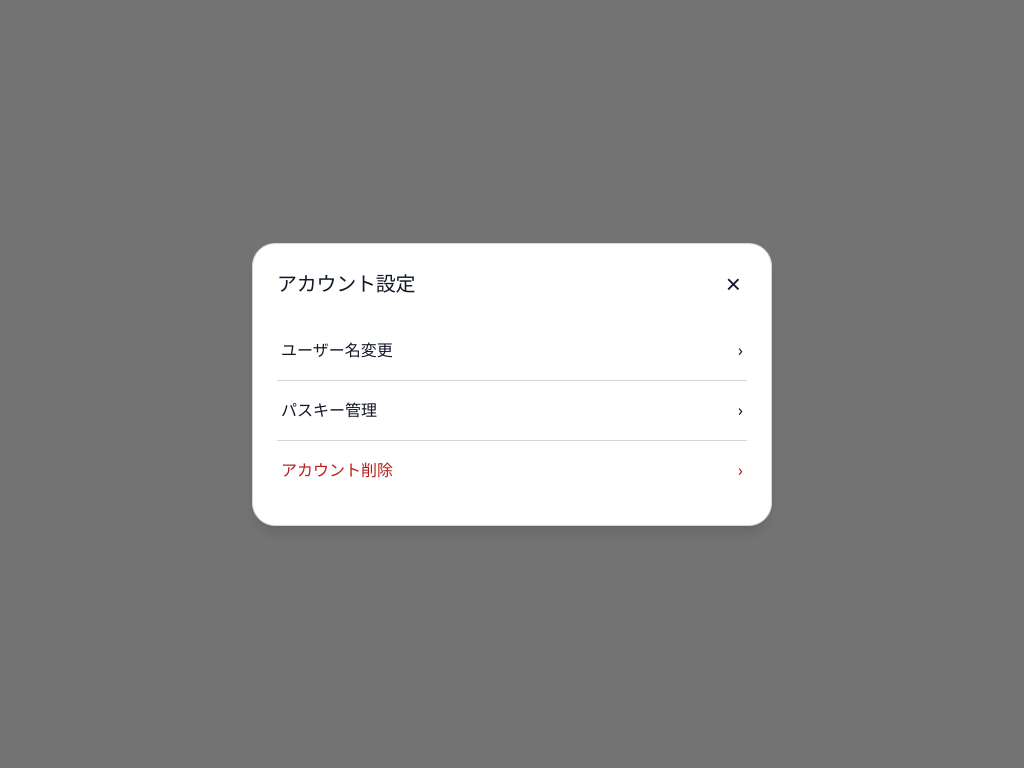
Test: opens an item menu first and shows only the selected settings screen
Expected: the navigation bar named "アカウント設定の項目" is shown, x1=277 y1=320 x2=747 y2=500
Expected: the field labelled "ニックネーム" is not shown
Click the button "ユーザー名変更 ›". click: (337, 350)
box: x1=277 y1=320 x2=747 y2=380
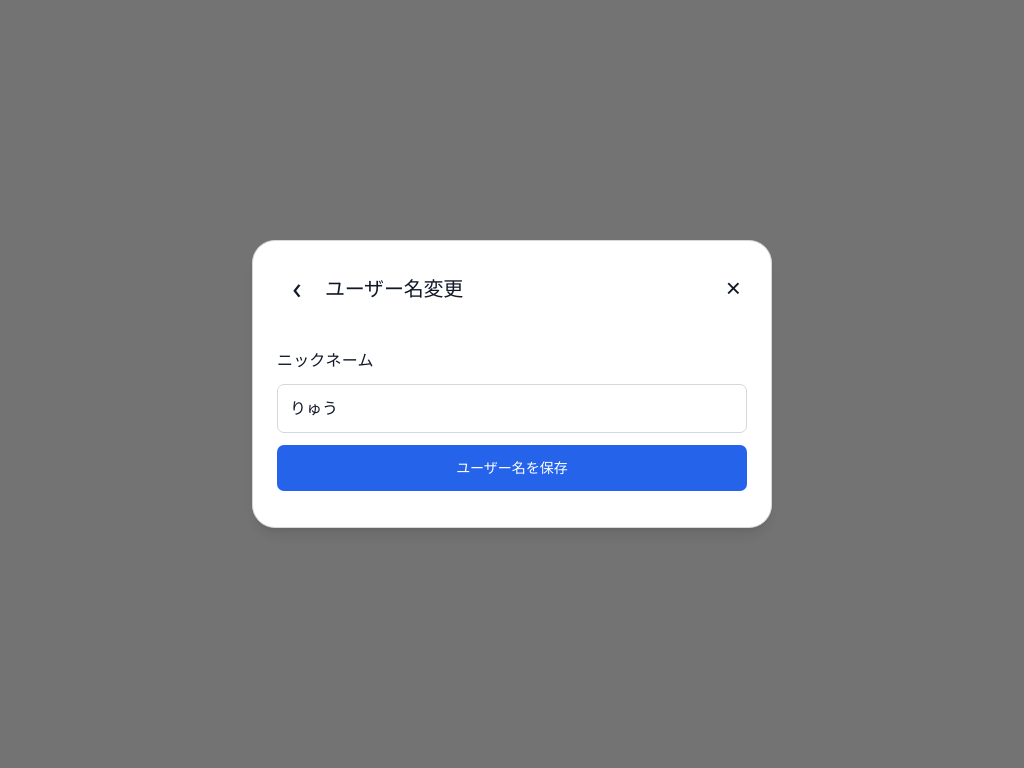
Expected: the button "パスキーを登録" is not shown
Expected: the field labelled "ニックネーム" is shown, x1=277 y1=384 x2=747 y2=433
Click the button named "アカウント設定に戻る". click: (297, 288)
box: x1=277 y1=265 x2=317 y2=312
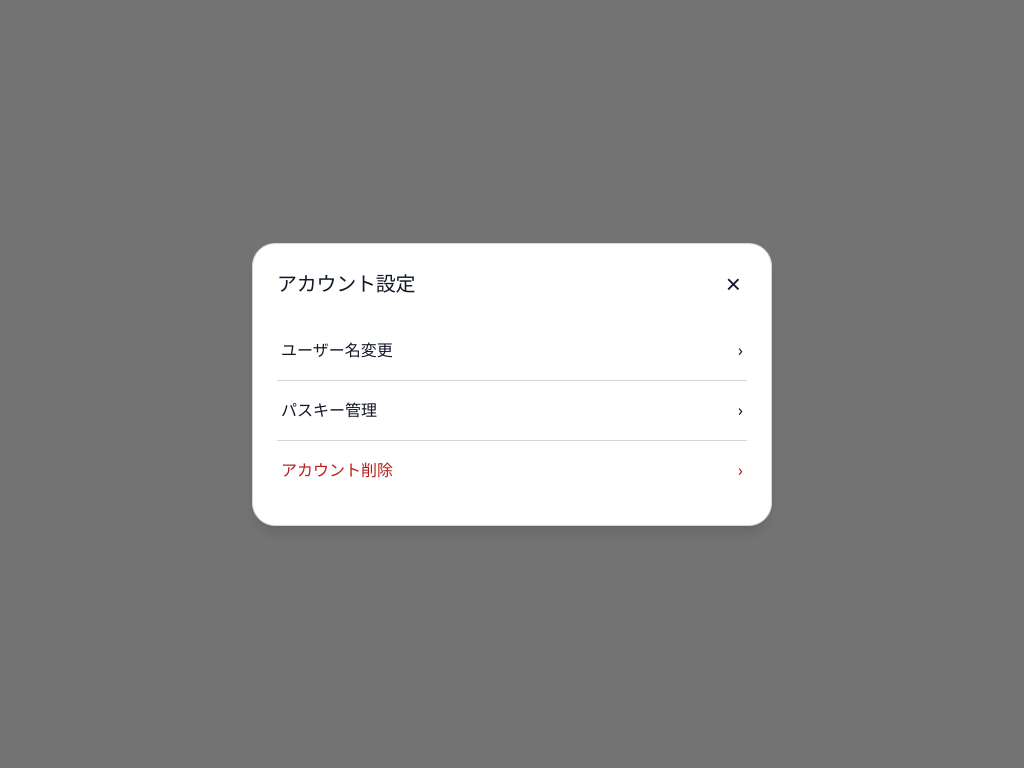
Click the button "パスキー管理 ›". click: (329, 410)
box: x1=277 y1=380 x2=747 y2=440
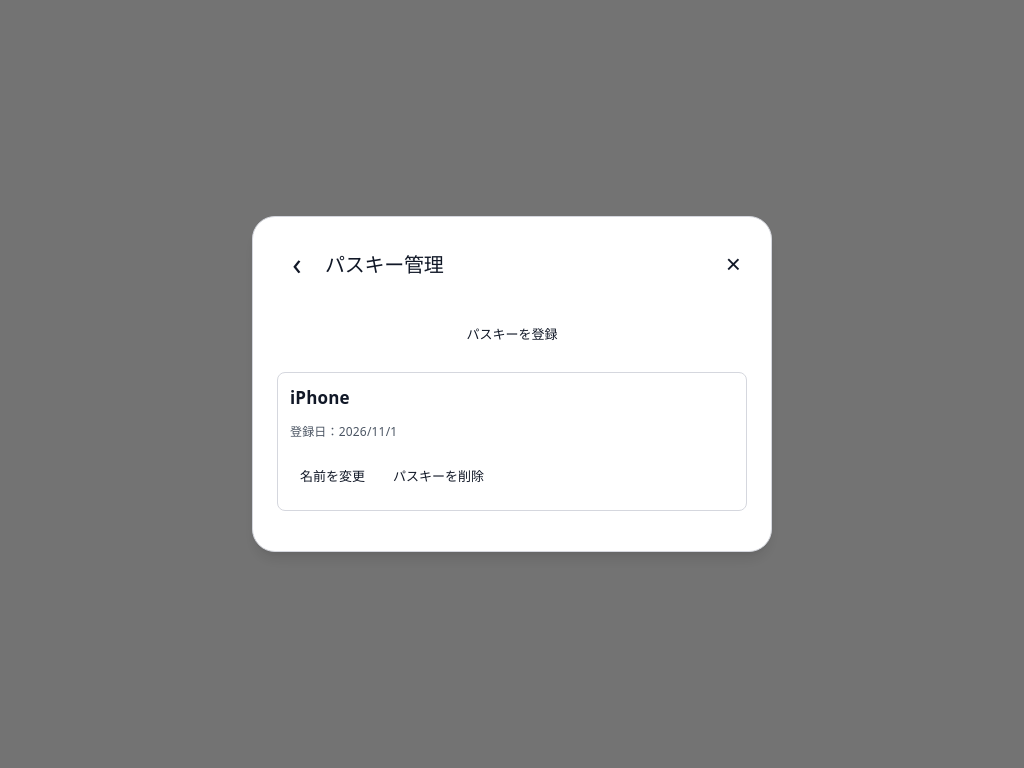
Expected: the label labelled "ニックネーム" is not shown
Expected: the heading "iPhone" is shown, x1=290 y1=386 x2=350 y2=409
